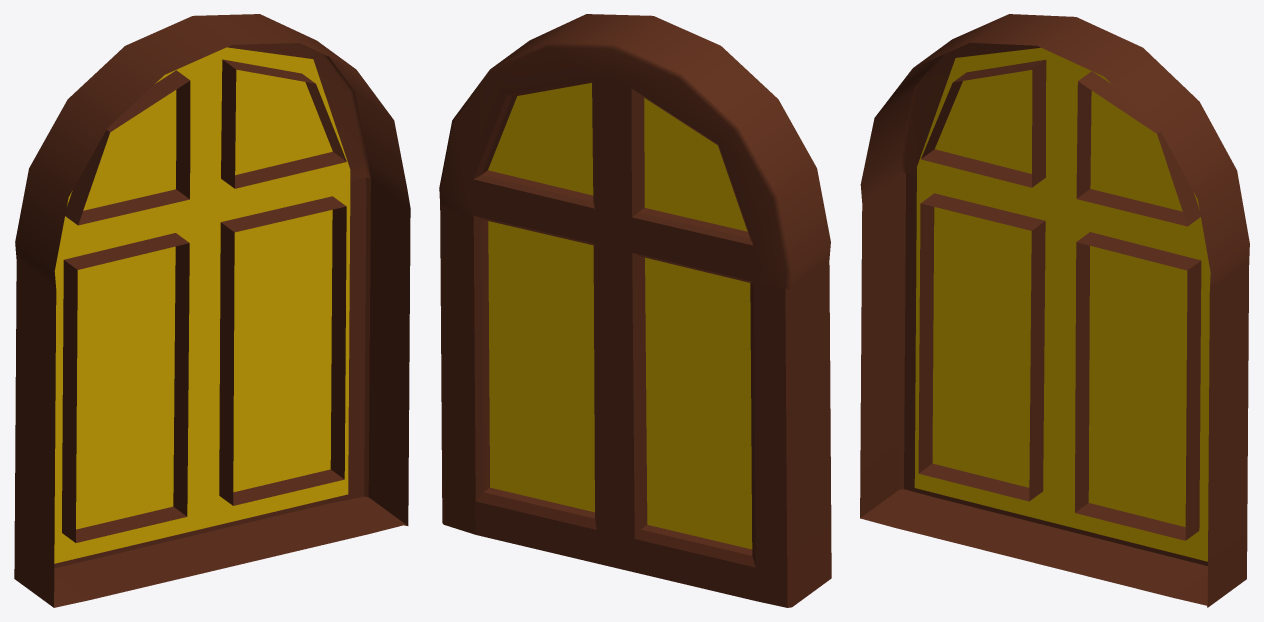
The model's file is Window.fbx.
The picture shows the model from 3 angles, left to right: view 1: azimuth 30°, elevation 25°; view 2: azimuth 150°, elevation 25°; view 3: azimuth 330°, elevation 25°; orthographic projection.
Parts seen in each view (by area): view 1: Frame_1, Glass_1; view 2: Frame_1, Glass_1; view 3: Frame_1, Glass_1.
Boxes of the visible parts, x1,y1,x2,y2 form: Frame_1: (14,14,410,607); Glass_1: (54,47,350,563); Frame_1: (439,14,831,607); Glass_1: (488,83,752,549); Frame_1: (860,14,1249,607); Glass_1: (914,47,1210,561).
Bounding box in the file's own units: 0.00782 × 0.011 × 0.00166.
